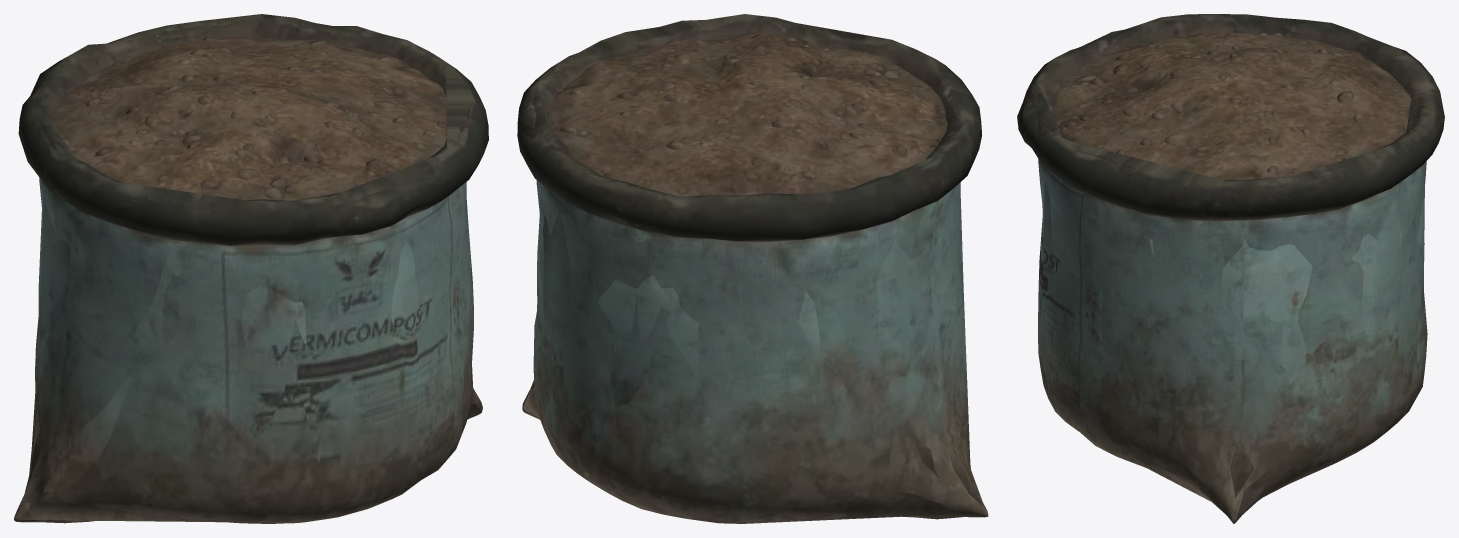
File: compost_bag_02.glb
The picture shows the model from 3 angles, left to right: view 1: azimuth 30°, elevation 25°; view 2: azimuth 150°, elevation 25°; view 3: azimuth 270°, elevation 25°; orthographic projection. The views are drawn at different scales.
Visible parts, largest first — view 1: compost_bag_02, compost_bag_02_lo; view 2: compost_bag_02, compost_bag_02_lo; view 3: compost_bag_02, compost_bag_02_lo.
Part boxes in pixels (x1,y1,x2,y2): compost_bag_02: [14, 14, 488, 523]; compost_bag_02_lo: [18, 14, 480, 522]; compost_bag_02: [517, 14, 988, 523]; compost_bag_02_lo: [518, 14, 982, 523]; compost_bag_02: [1017, 14, 1444, 523]; compost_bag_02_lo: [1029, 14, 1433, 521].
Size of the model in its own units: 0.539 by 0.4336 by 0.4705.
Materials: 1 (1 with a texture image).
